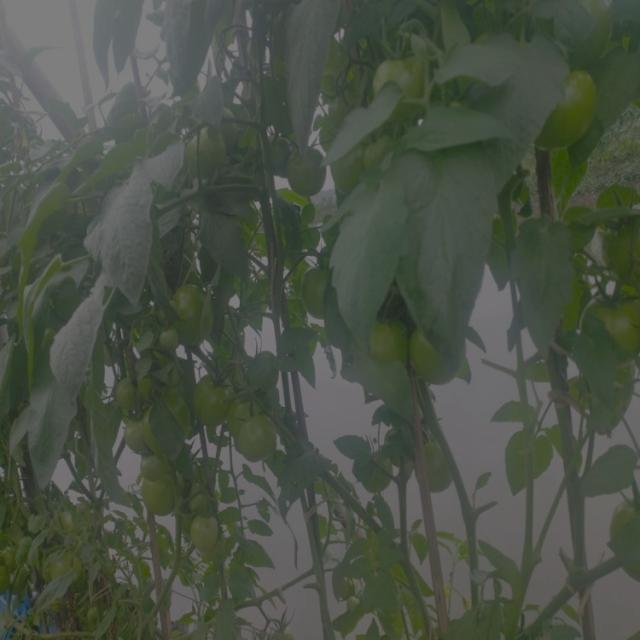tomato: (524, 61, 599, 147), (588, 277, 640, 360), (151, 286, 219, 349), (367, 60, 443, 111), (411, 325, 472, 387), (411, 433, 460, 490), (233, 401, 283, 454), (362, 322, 408, 367), (286, 149, 331, 195), (191, 128, 229, 180), (62, 508, 103, 546), (194, 378, 230, 421), (142, 485, 181, 517), (362, 460, 398, 493), (1, 553, 30, 593), (304, 271, 328, 319), (52, 552, 88, 583), (192, 519, 231, 545), (135, 459, 179, 480), (119, 421, 145, 454), (116, 378, 141, 409), (191, 488, 218, 513), (170, 394, 190, 426), (87, 612, 102, 624)
